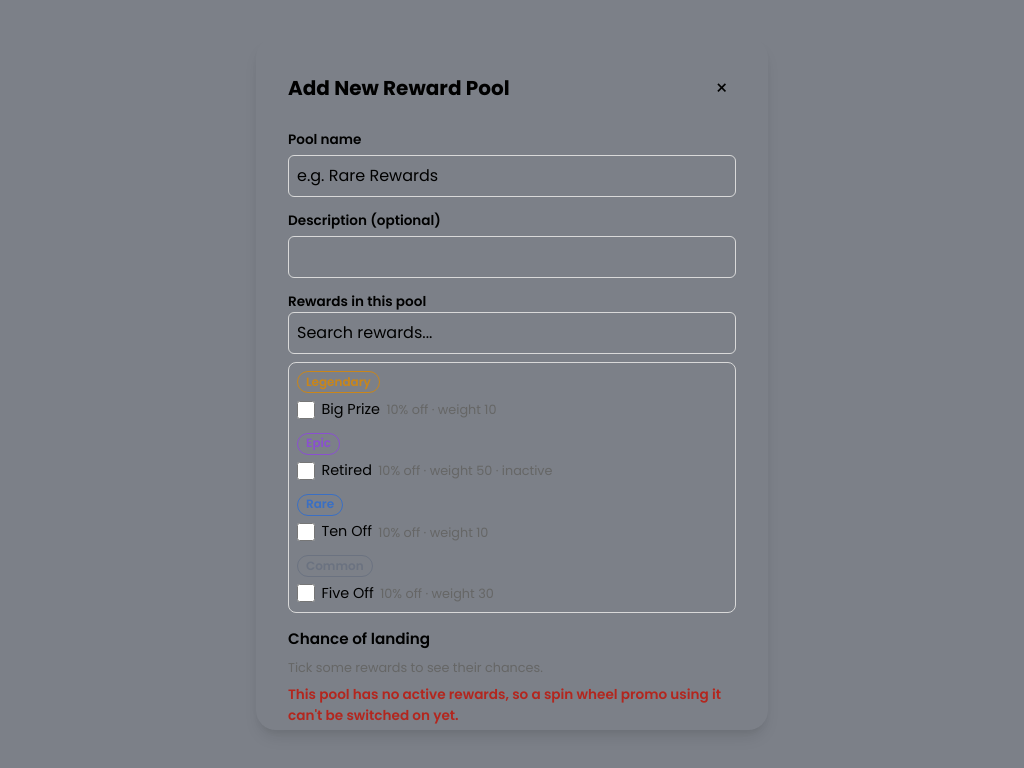
RewardPoolBuilderModal (session 114) › recalculates each selected reward's % chance live as rewards are ticked
Click the checkbox labelled "Five Off 10% off · weight 30" at coordinates (306, 593), box [297,584,315,602]
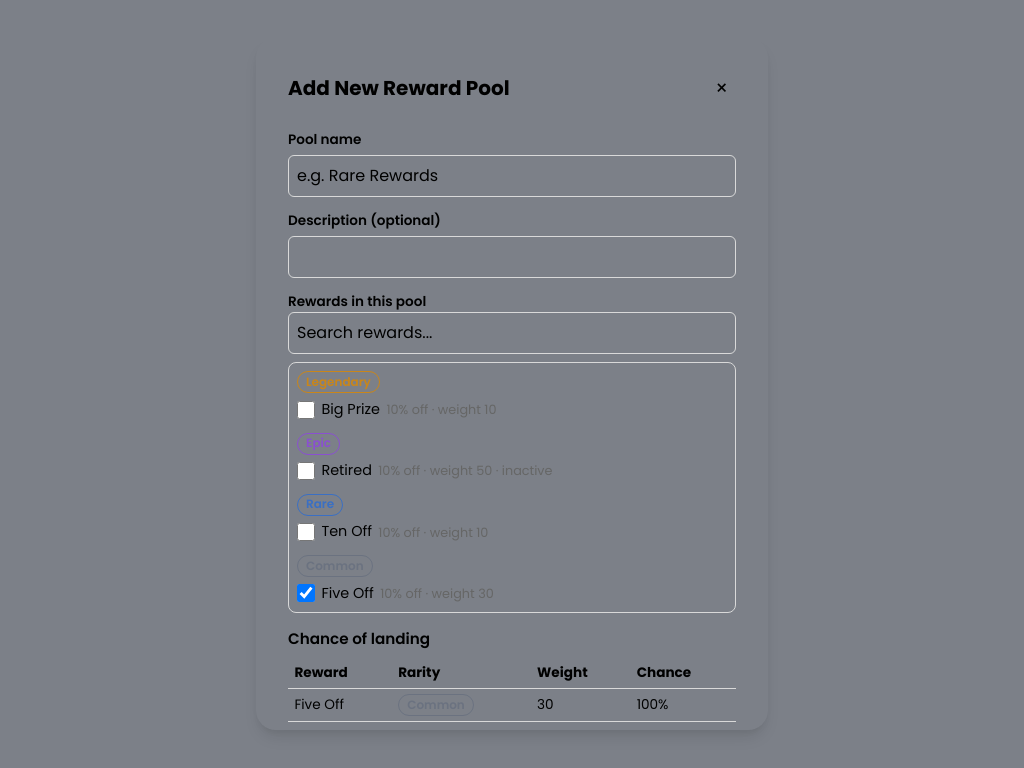
Expected: the text "100%" is shown, [630,689,736,721]
Click the checkbox labelled "Ten Off 10% off · weight 10" at coordinates (306, 532), box [297,523,315,541]
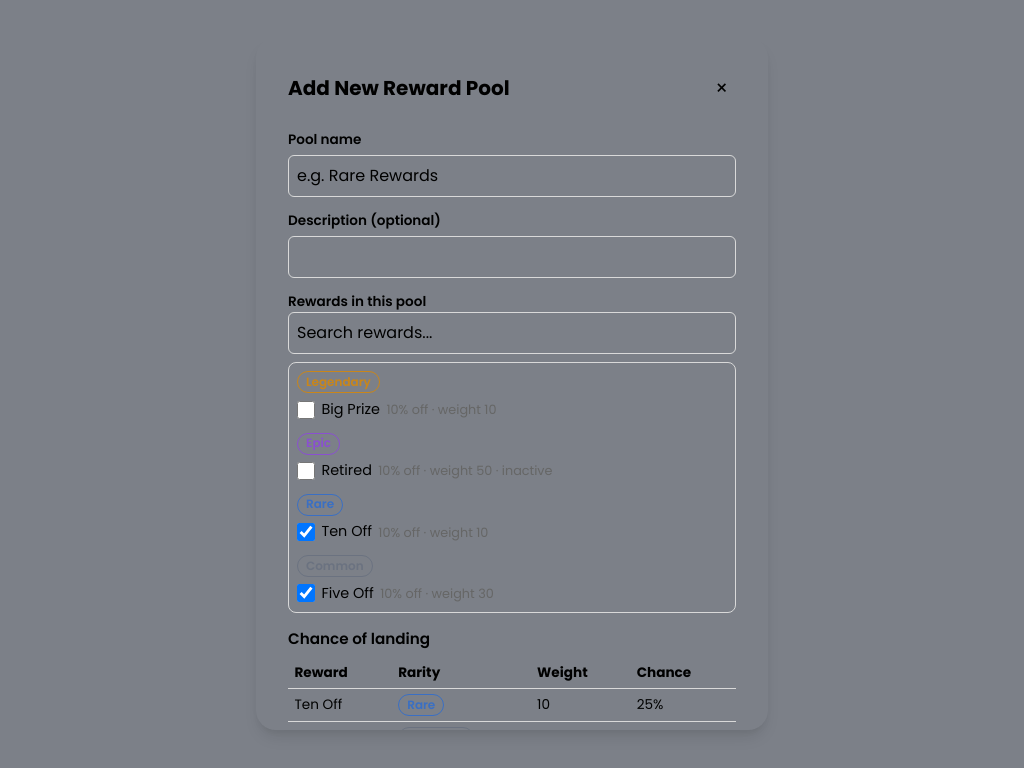
Expected: the text "25%" is shown, [630,689,736,721]
Click the checkbox labelled "Big Prize 10% off · weight 10" at coordinates (306, 410), box [297,401,315,419]
(page scrolled)
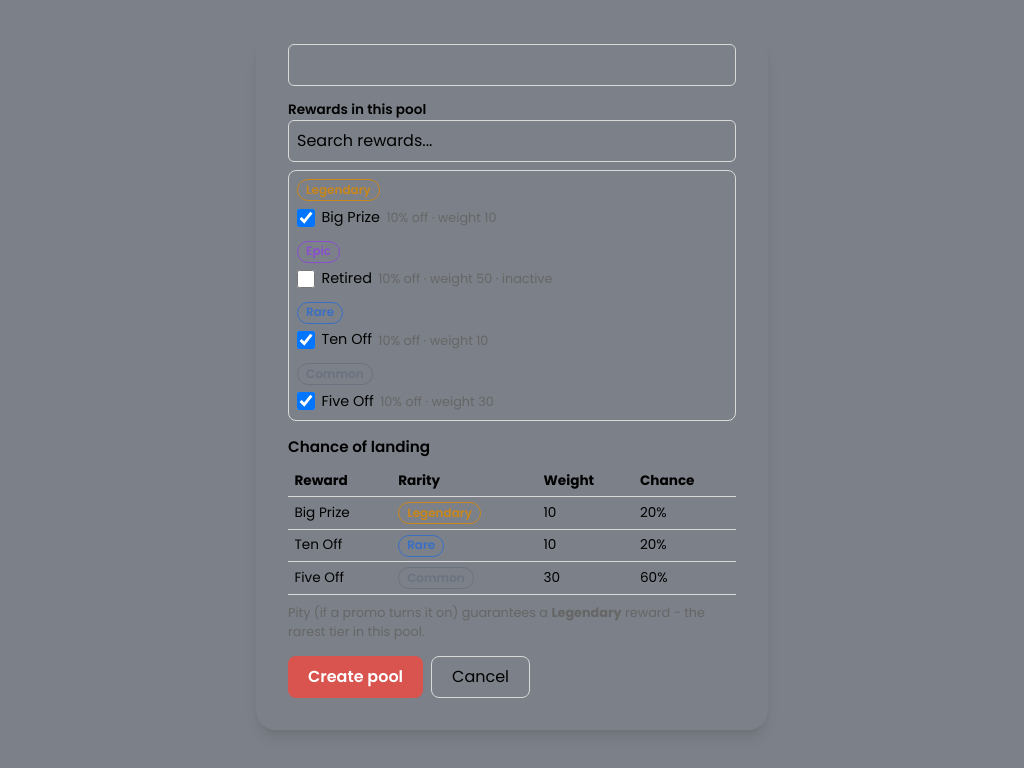
Expected: the text "60%" is shown, [634,562,736,594]
Expected: the 1st text "20%" is shown, [634,497,736,529]
Expected: the text "Legendary" next to "reward - the rarest tier in this pool." is shown, [551,604,622,621]
